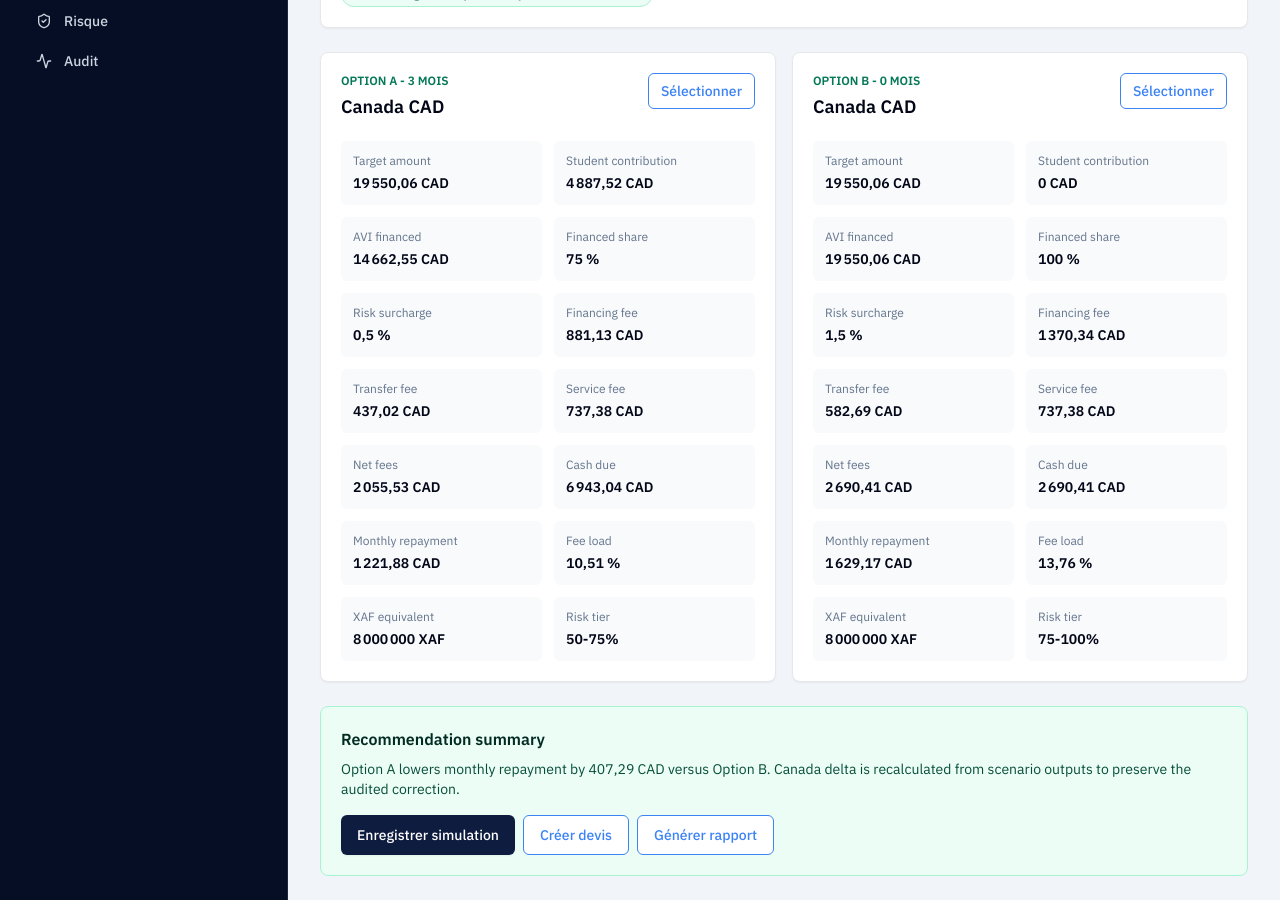
Scenario: FintechCommandCenter › renders a print-ready report layout after generation
(page scrolled)
Click the button "Générer rapport" at (706, 835), box [637, 815, 774, 855]
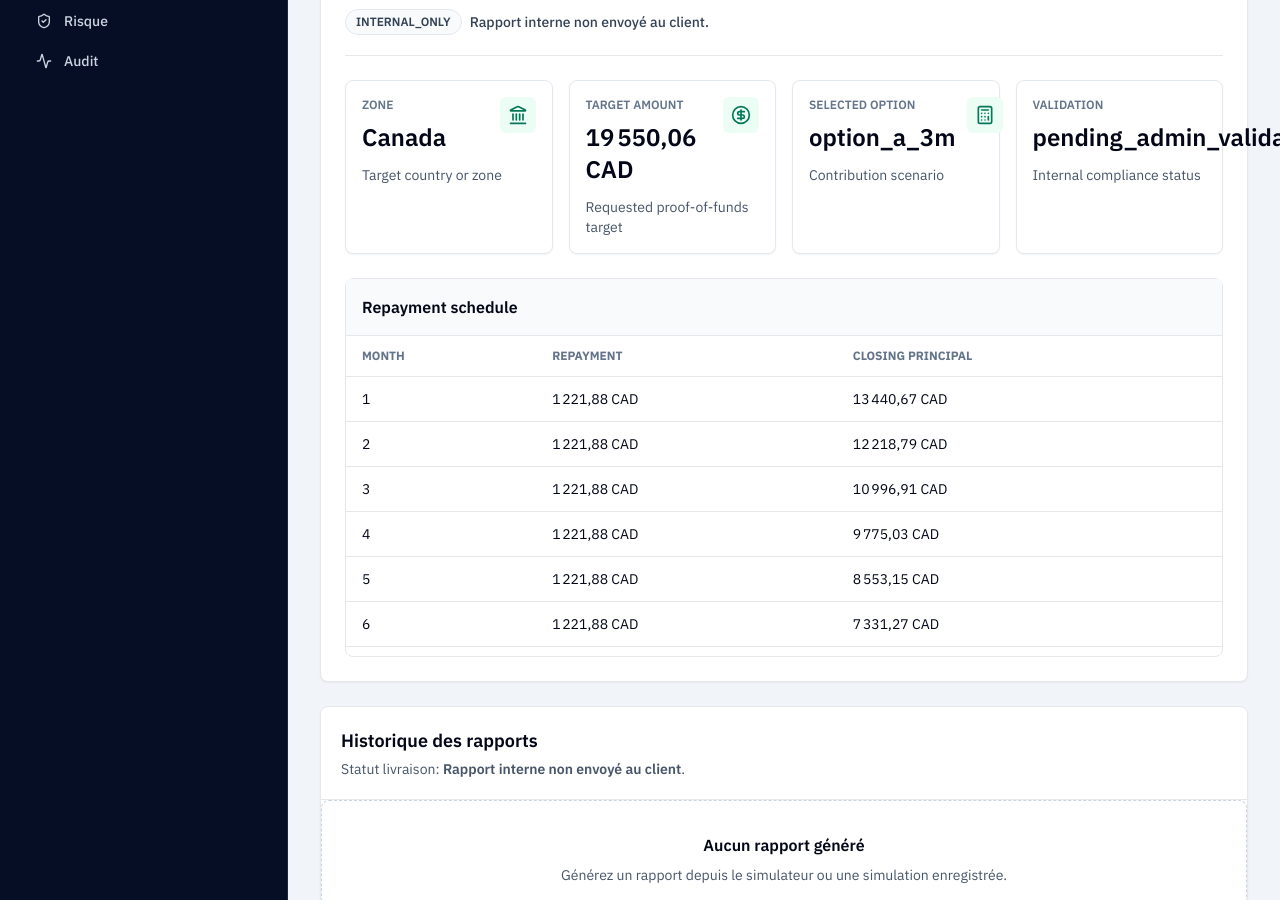
expect the text "INTERNAL_ONLY" is shown: met, box [345, 9, 462, 35]
expect the text "Rapport interne non envoyé au client." is shown: met, box [470, 12, 709, 32]
expect the text "Repayment schedule" is shown: met, box [346, 279, 1222, 336]
